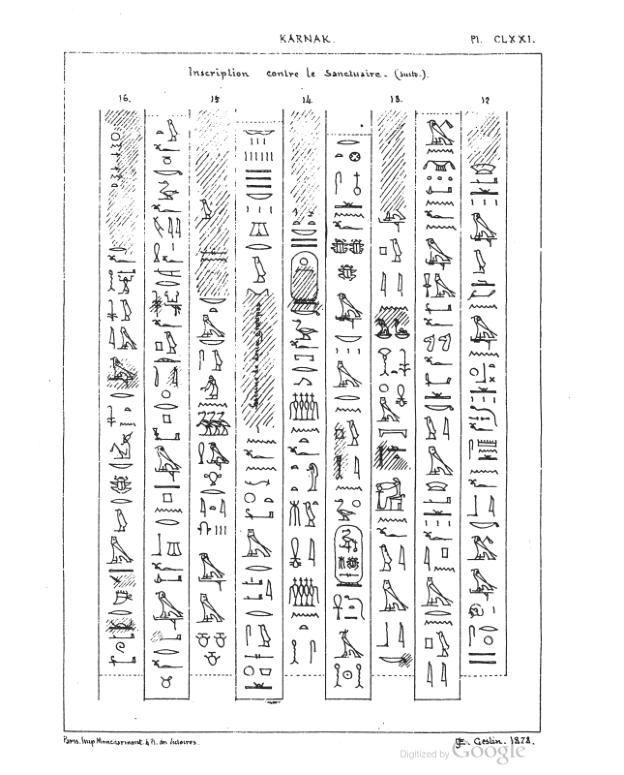circle: (330, 522, 367, 590), (288, 249, 322, 318)
